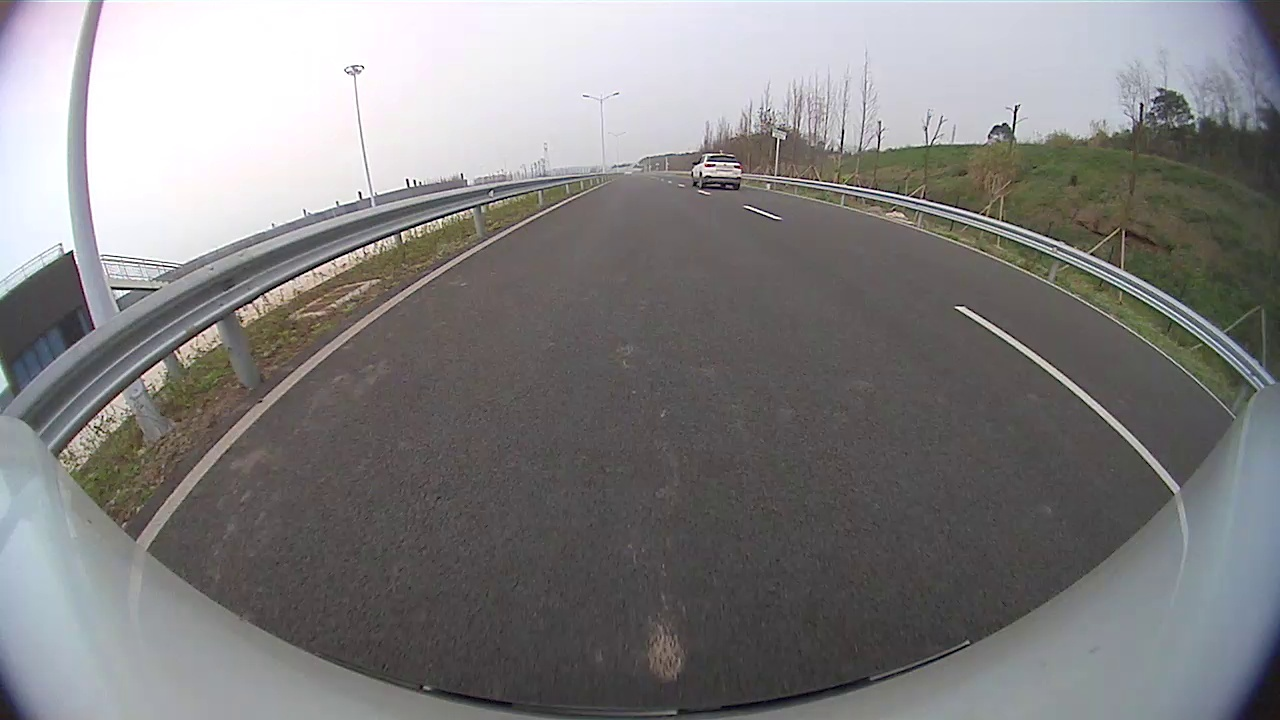car: (690, 153, 742, 190)
rear: (698, 174, 704, 190)
